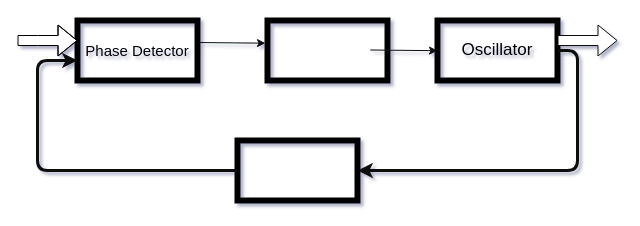
Image size: 640x226. Some labels were removed from this diagram. The shapes that lost their labels are listed below. From the top down, each one's centre as x and y in pixels, then its label:
At (x=327, y=50): "Low Pass Filter".
At (x=297, y=170): "Frequency Divider N".
